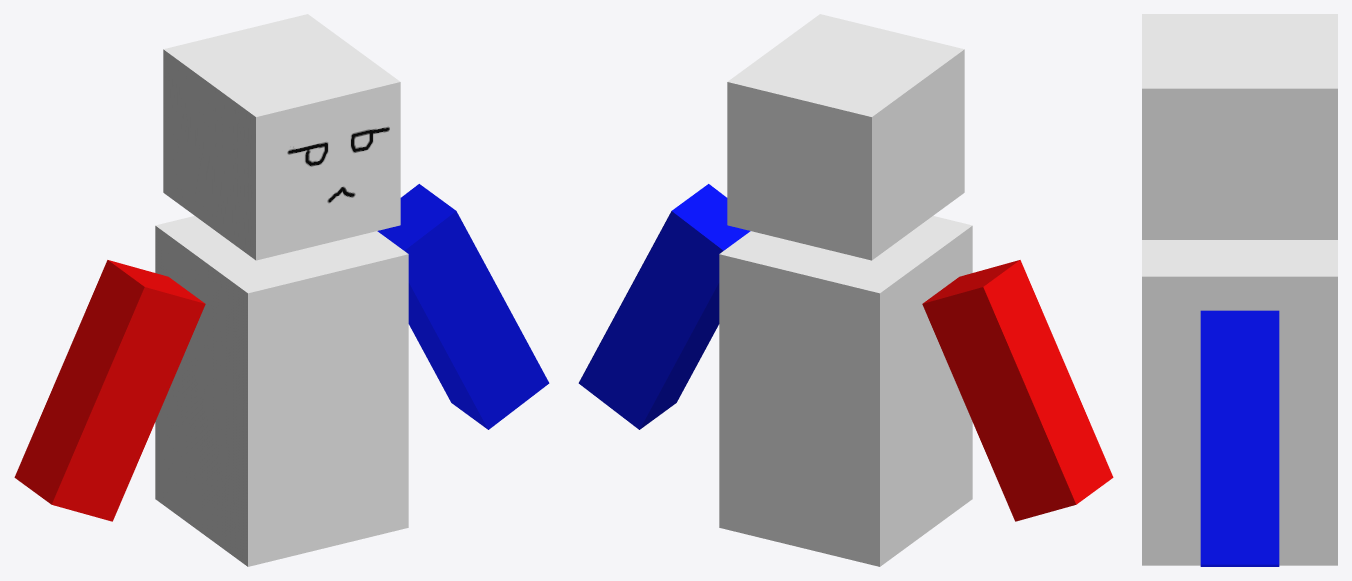
Rendered from playerModel.obj.
The picture shows the model from 3 angles, left to right: view 1: azimuth 30°, elevation 25°; view 2: azimuth 150°, elevation 25°; view 3: azimuth 270°, elevation 25°; orthographic projection. The views are drawn at different scales.
Parts seen in each view (by area): view 1: Cube.003; view 2: Cube.003; view 3: Cube.003.
Part boxes in pixels (bbox=[...]): Cube.003: bbox=[14, 14, 549, 566]; Cube.003: bbox=[578, 14, 1113, 566]; Cube.003: bbox=[1142, 14, 1337, 566].
Bounding box in the file's own units: 6.2 × 5.33 × 2.
